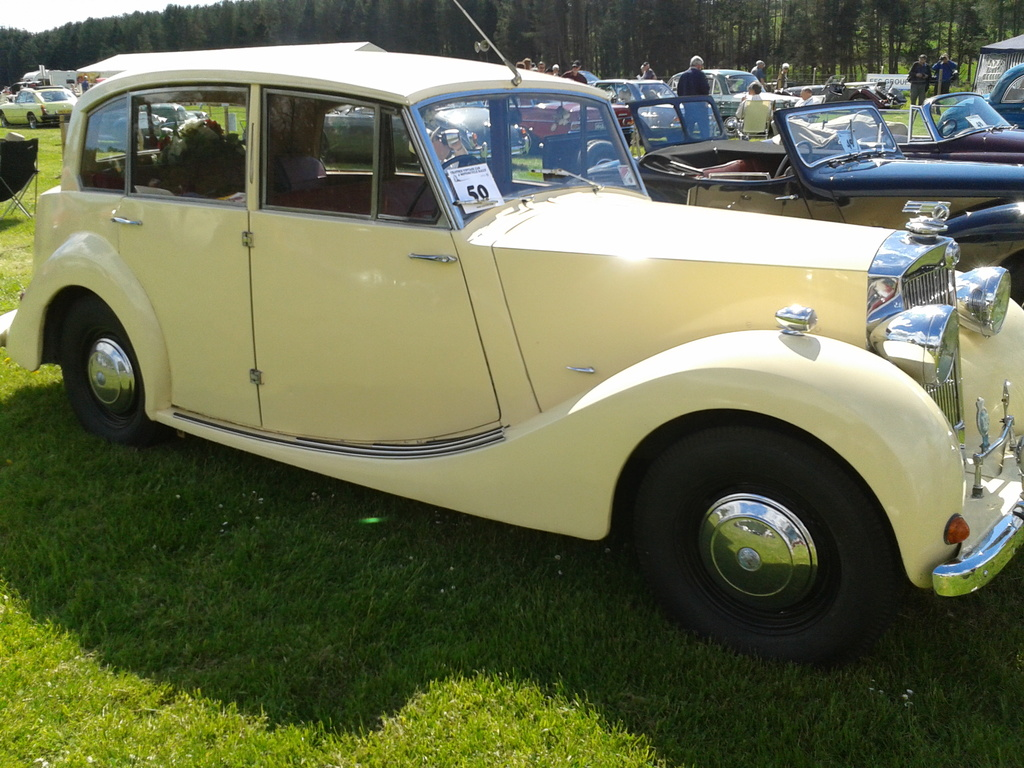Car: (0, 0, 1023, 657), (645, 96, 1023, 292), (883, 91, 1023, 170), (597, 80, 692, 145), (5, 79, 84, 132)
